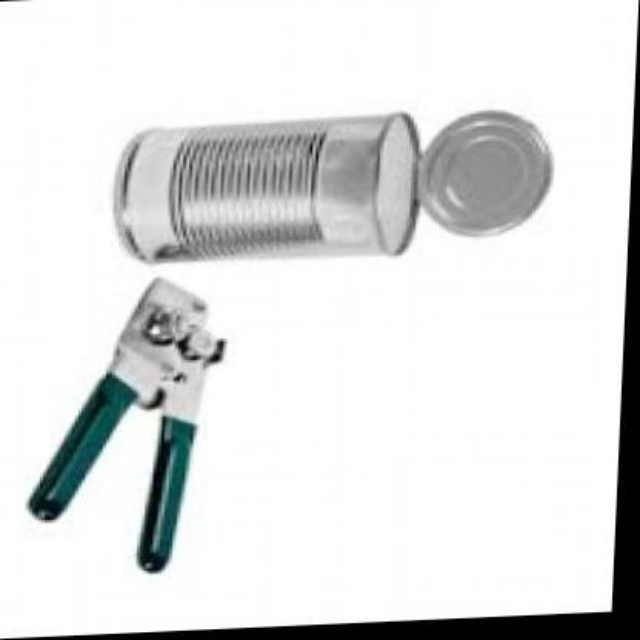trash: (114, 111, 551, 260), (114, 114, 418, 260), (420, 111, 551, 234)
